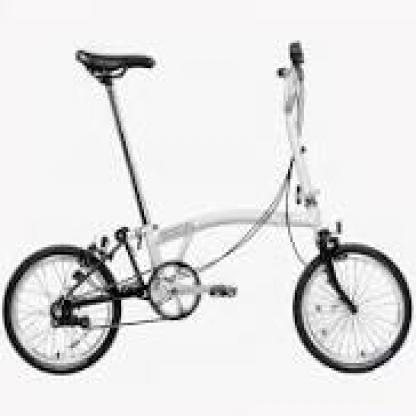Bike: (3, 44, 414, 377)
